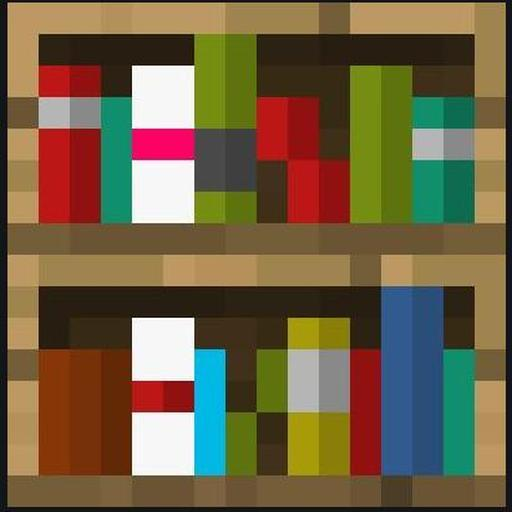Crewmate: (287, 316, 351, 476), (37, 63, 99, 223), (410, 94, 475, 224)
